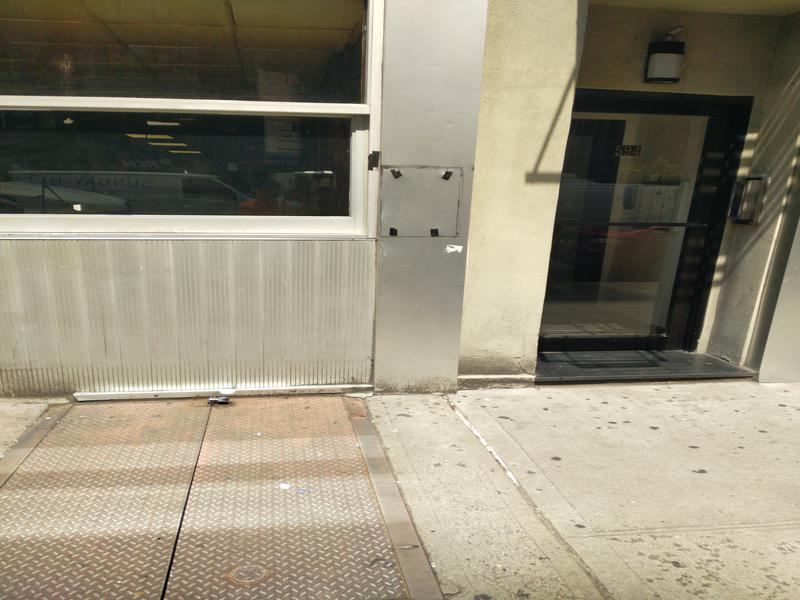door: (546, 81, 743, 362)
